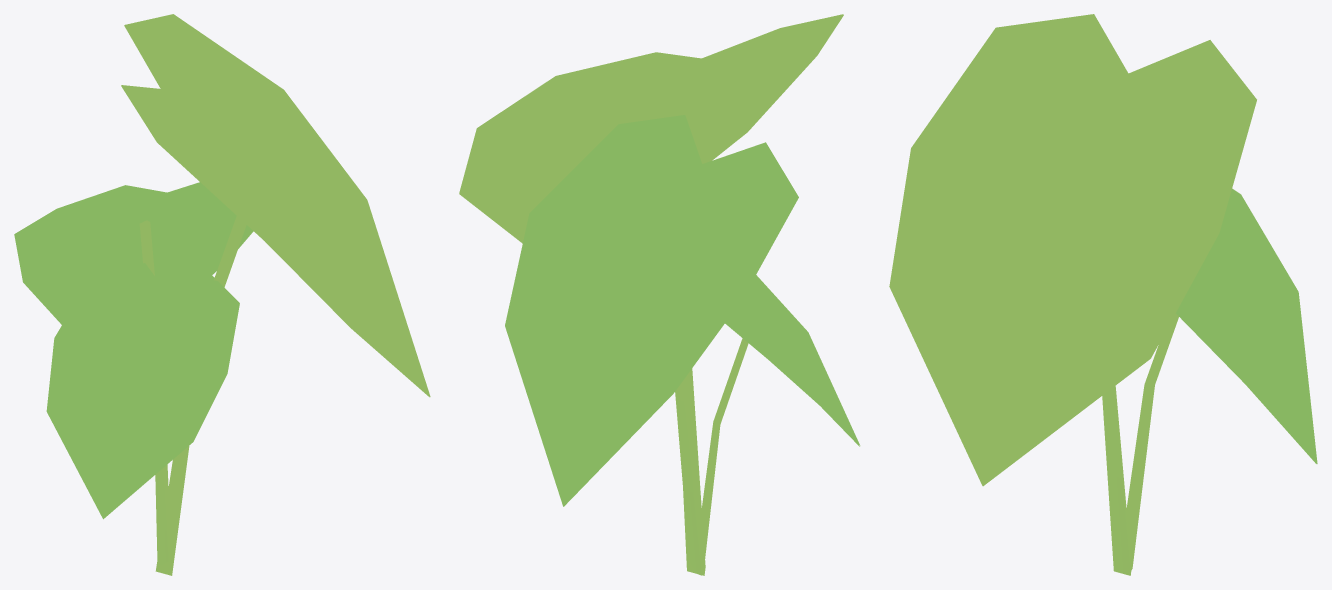
File: Plant_d_TwoS_05.fbx
3 views of the same model, side by side, from view 1: azimuth 30°, elevation 25°; view 2: azimuth 150°, elevation 25°; view 3: azimuth 270°, elevation 25° (orthographic). The views are drawn at different scales.
Parts seen in each view (by area): view 1: Plant_d_TwoS_05; view 2: Plant_d_TwoS_05; view 3: Plant_d_TwoS_05.
Part boxes in pixels (left/top/right/bottom): Plant_d_TwoS_05: left=14, top=14, right=430, bottom=575; Plant_d_TwoS_05: left=459, top=14, right=860, bottom=575; Plant_d_TwoS_05: left=889, top=14, right=1317, bottom=575.
Size of the model in its own units: 0.4525 by 0.6777 by 0.495.
